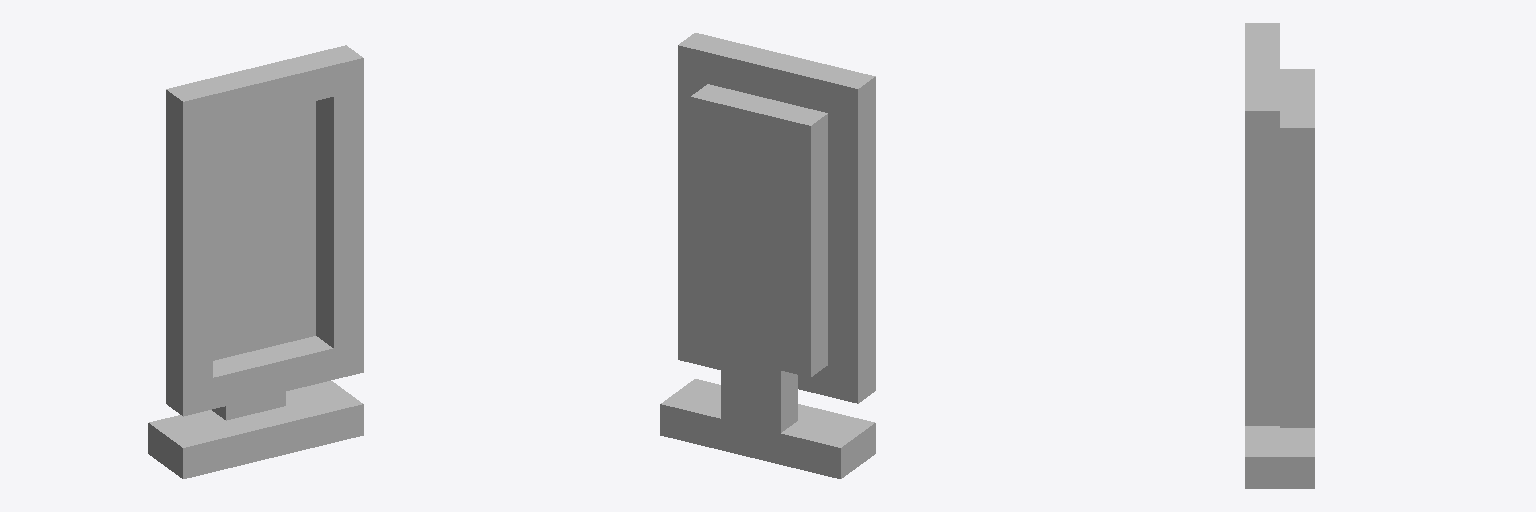
The picture shows the model from 3 angles: view 1: azimuth 30°, elevation 25°; view 2: azimuth 150°, elevation 25°; view 3: azimuth 270°, elevation 25°; orthographic projection.
Parts seen in each view (by area): view 1: GDM; view 2: GDM; view 3: GDM.
Part boxes in pixels (x1,y1,x2,y2): GDM: (148, 45, 363, 478); GDM: (660, 33, 875, 478); GDM: (1245, 23, 1314, 488).
Size of the model in its own units: 0.6 by 1.2 by 0.2.